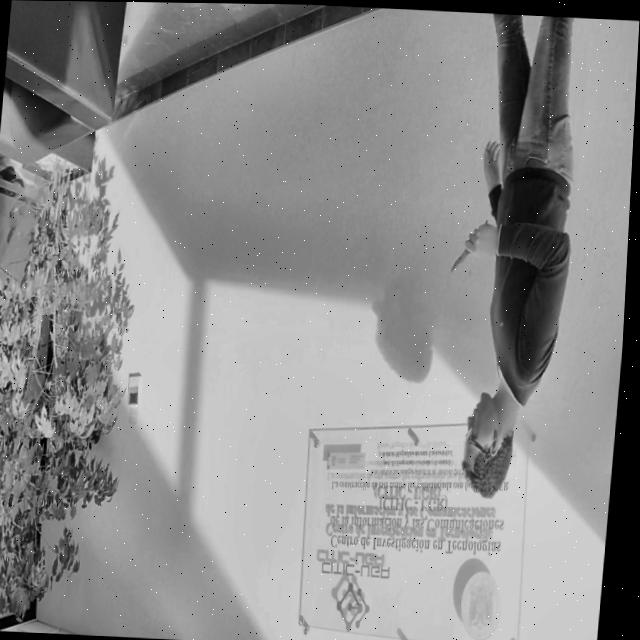knife: (453, 247, 473, 272)
